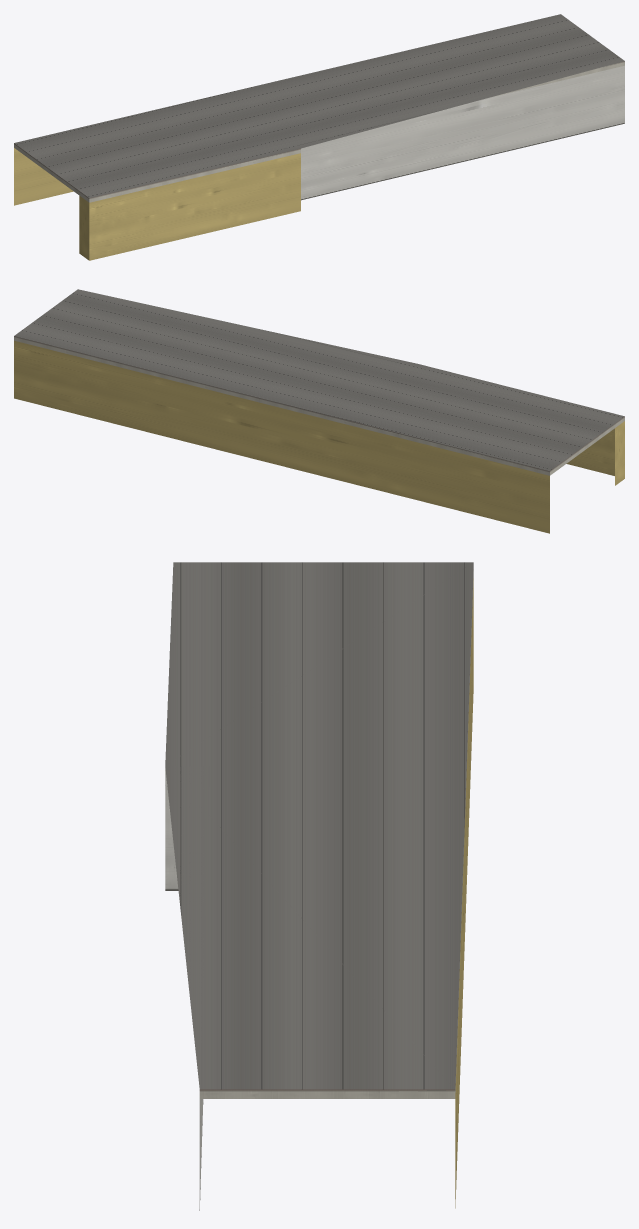
File: SM_Molo_Edificio_A3_LOD2.fbx
3 views of the same model, one above another, from view 1: azimuth 30°, elevation 25°; view 2: azimuth 150°, elevation 25°; view 3: azimuth 270°, elevation 25° (orthographic). The views are drawn at different scales.
Visible parts, largest first — view 1: SM_Molo_Edificio_A3_LOD2; view 2: SM_Molo_Edificio_A3_LOD2; view 3: SM_Molo_Edificio_A3_LOD2.
Boxes of the visible parts, left/top/right/bottom form: SM_Molo_Edificio_A3_LOD2: left=14, top=14, right=624, bottom=260; SM_Molo_Edificio_A3_LOD2: left=14, top=289, right=624, bottom=533; SM_Molo_Edificio_A3_LOD2: left=165, top=562, right=473, bottom=1210.
Bounding box in the file's own units: 3080 × 761 × 340.
1 material, 1 textured.
